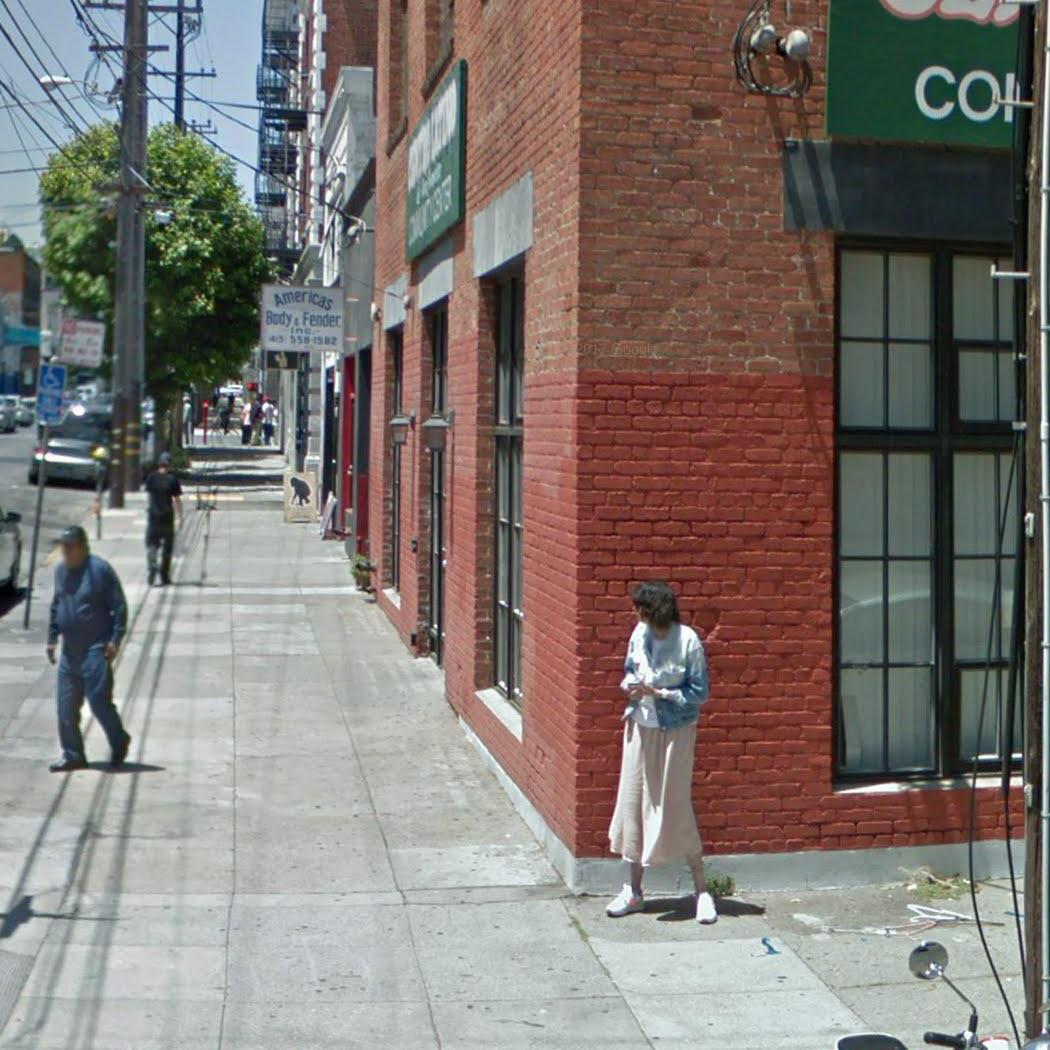No Parking: (57, 316, 106, 367)
